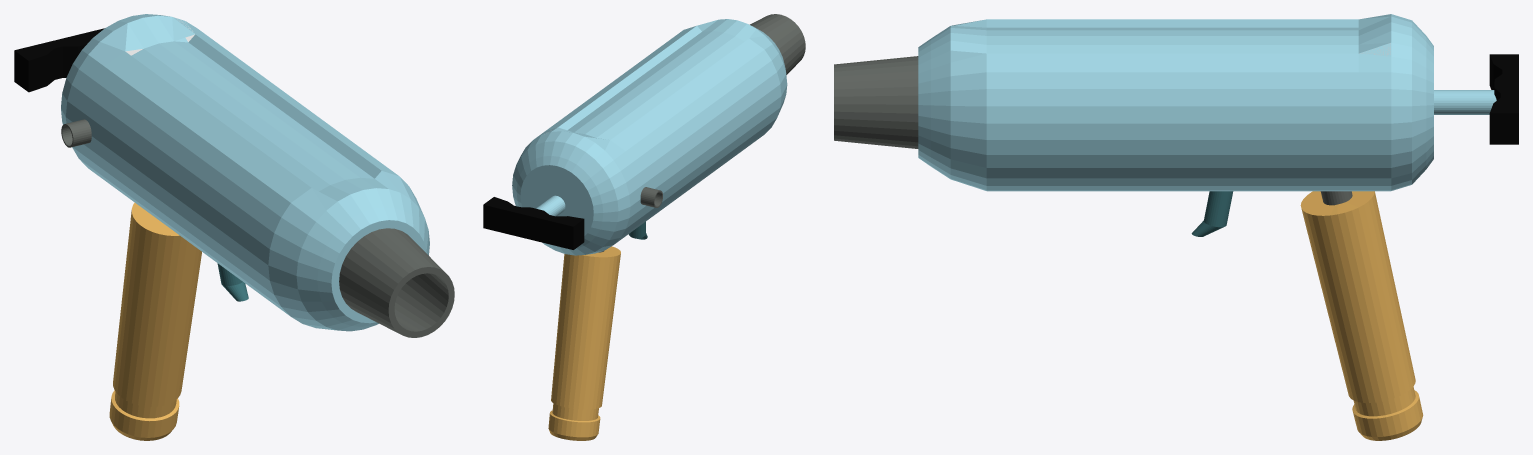
File: PShooter.fbx
3 views of the same model, side by side, from view 1: azimuth 30°, elevation 25°; view 2: azimuth 150°, elevation 25°; view 3: azimuth 270°, elevation 25° (orthographic). The views are drawn at different scales.
Visible parts, largest first — view 1: Body.002, Action, Trigger; view 2: Body.002, Action; view 3: Body.002, Action, Trigger.
Part boxes in pixels (<box>): Body.002: <box>61,14,454,440</box>; Action: <box>14,28,104,92</box>; Trigger: <box>217,263,248,301</box>; Body.002: <box>512,14,805,440</box>; Action: <box>483,195,584,249</box>; Body.002: <box>834,14,1433,440</box>; Action: <box>1434,54,1518,144</box>; Trigger: <box>1191,191,1233,236</box>.
Bounding box in the file's own units: 72.14 × 165 × 249.
